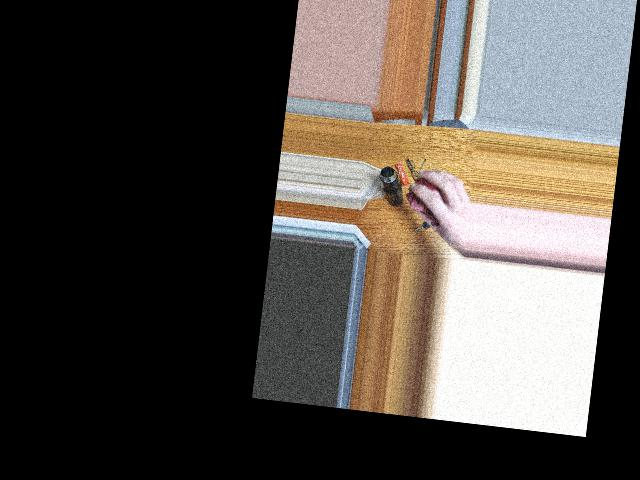onion: (409, 173, 446, 220)
